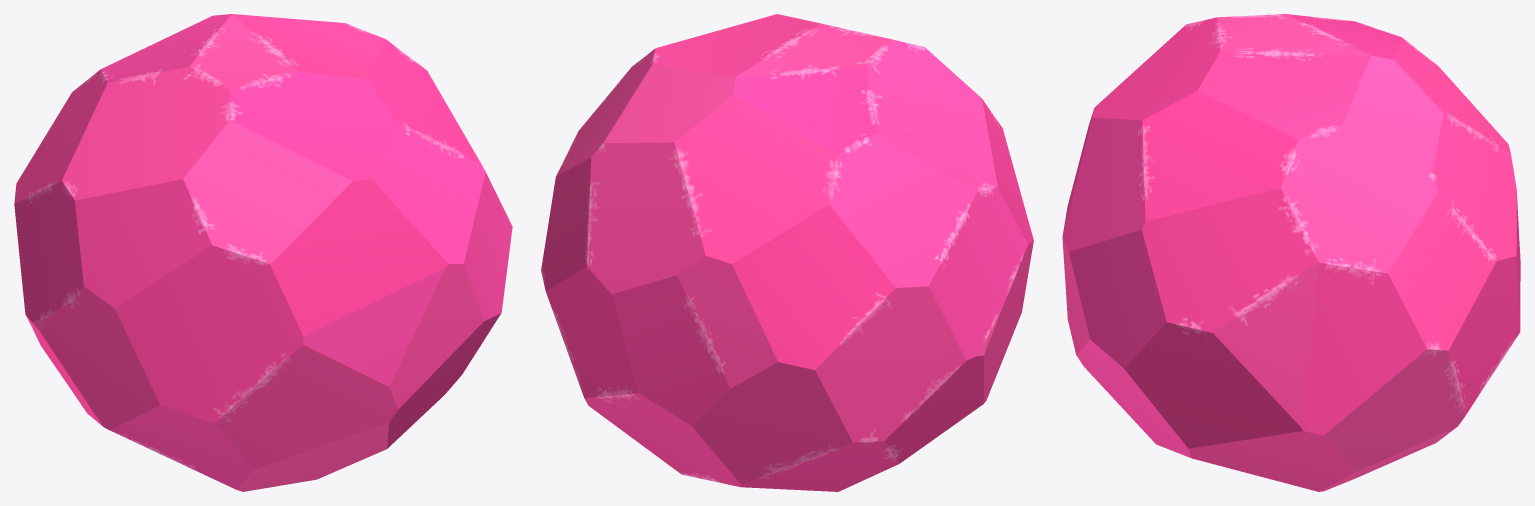
File: skipping_crystal.glb
The picture shows the model from 3 angles, left to right: view 1: azimuth 30°, elevation 25°; view 2: azimuth 150°, elevation 25°; view 3: azimuth 270°, elevation 25°; orthographic projection.
Visible parts, largest first — view 1: skipping_crystal; view 2: skipping_crystal; view 3: skipping_crystal.
Boxes of the visible parts, bbox=[...] form: skipping_crystal: bbox=[14, 14, 512, 491]; skipping_crystal: bbox=[541, 14, 1033, 491]; skipping_crystal: bbox=[1062, 14, 1520, 491].
Size of the model in its own units: 0.9654 by 0.91 by 0.931.
Materials: 1 (1 with a texture image).
